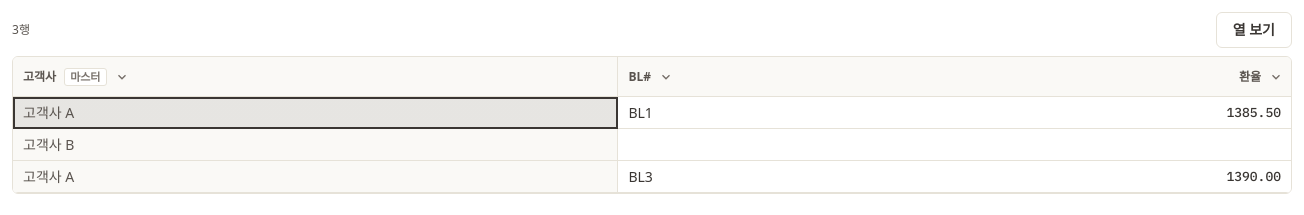
Scenario: 직접 입력 칸은 글자를 치면 고치기 시작하고, Enter로 저장한 뒤 아래 칸으로 가요
Press the mouse on the 6th cell at [1108, 145], box [925, 129, 1291, 161]
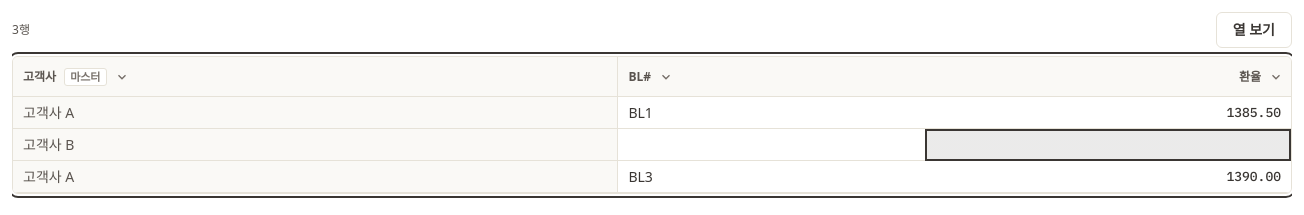
Press 1 in the table named "시험 표"
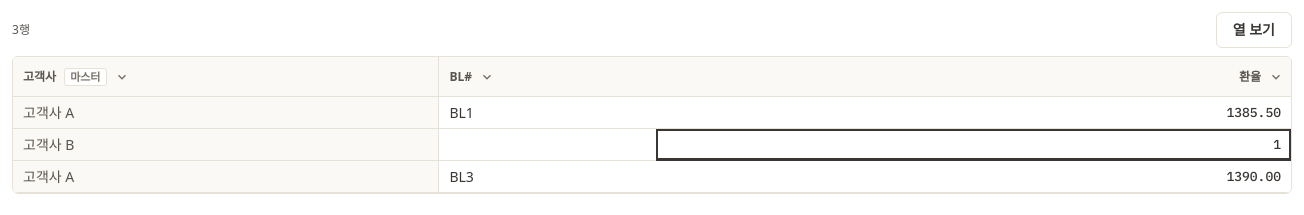
Replace the text in the field named "환율" with "1,400.5" at [973, 144], box [656, 129, 1291, 160]
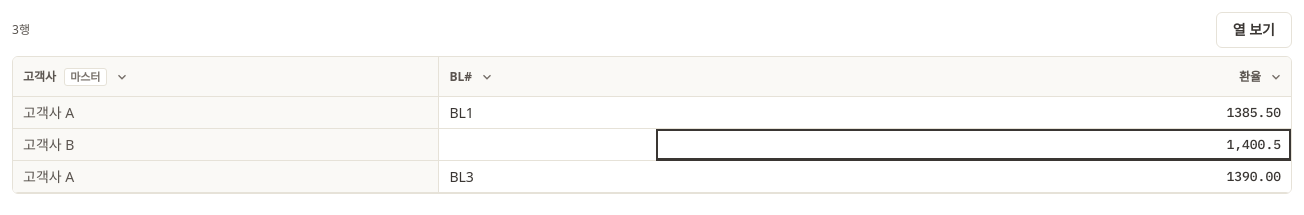
Press Enter in the field named "환율", box [656, 129, 1291, 160]
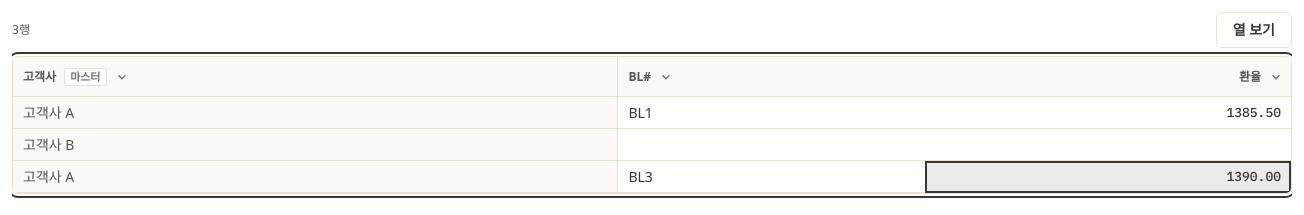
expect the field is gone: met
